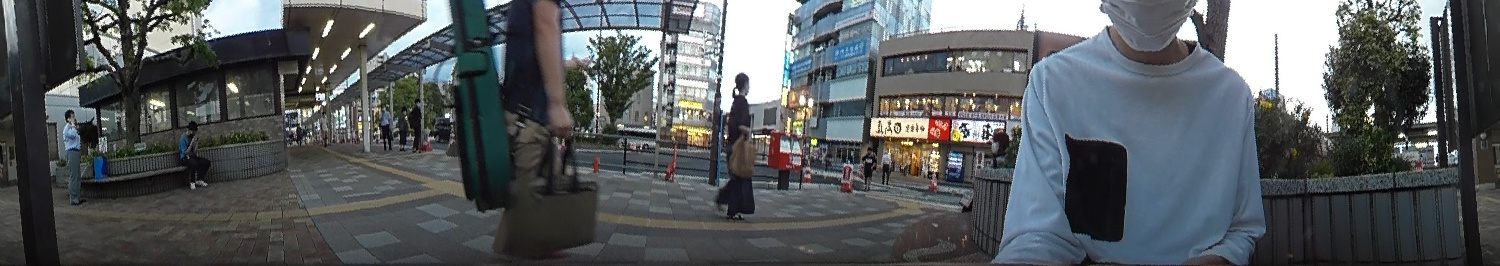difficult_person: (409, 96, 427, 153), (859, 144, 876, 192), (396, 103, 411, 150), (377, 103, 391, 147), (879, 146, 895, 184), (291, 121, 304, 144), (320, 108, 328, 142)
person: (717, 70, 755, 216), (955, 128, 1013, 207), (54, 103, 98, 205), (174, 116, 217, 187)
